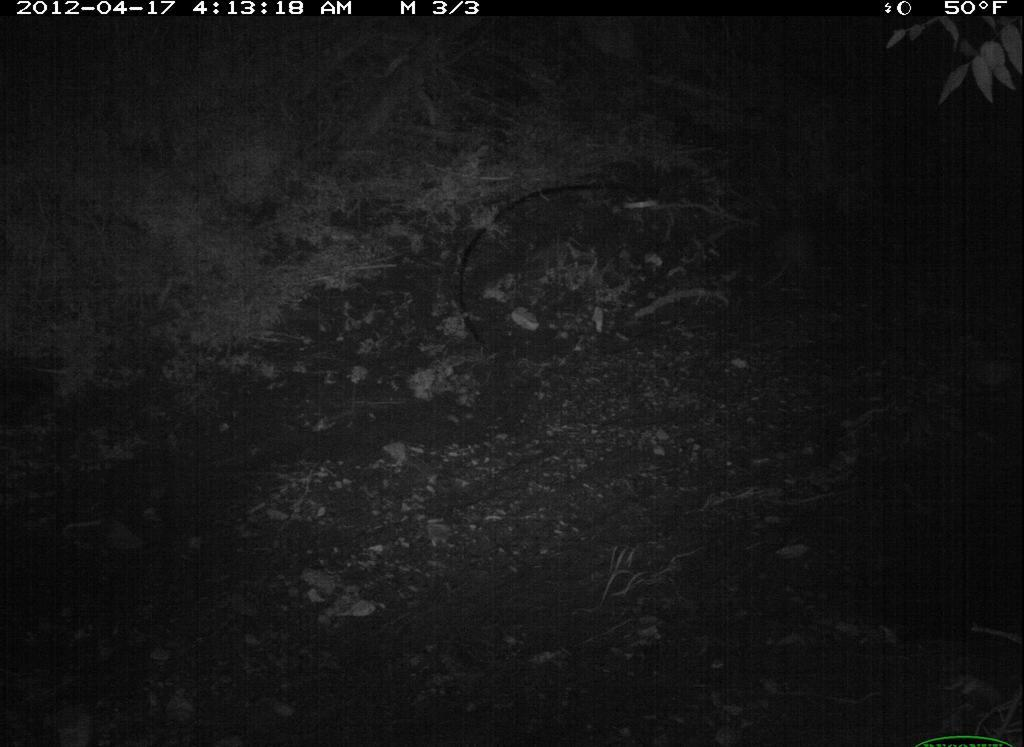opossum: (744, 205, 843, 297)
